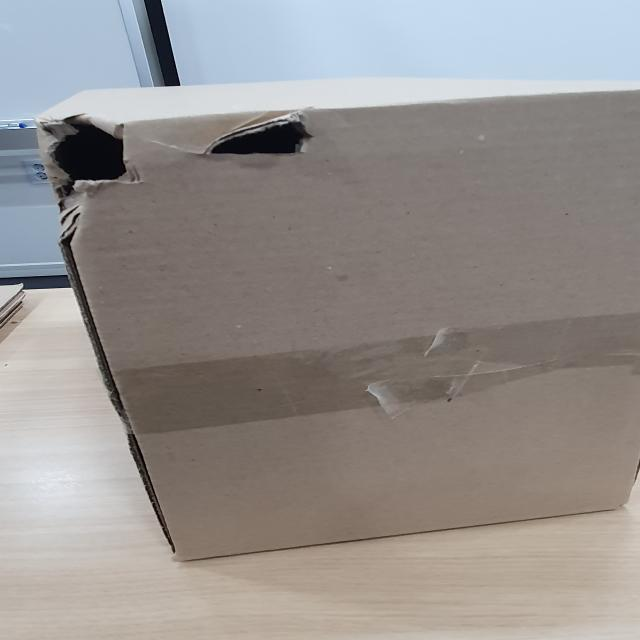hole: (187, 104, 336, 170), (40, 108, 140, 196)
